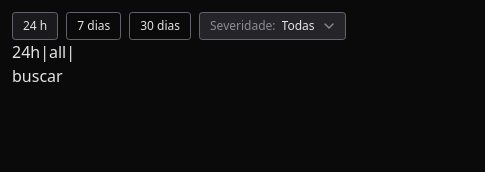
Test: FilterBar › "Limpar filtros" só aparece com filtro ativo
The width and height of the screenshot is (485, 172).
Expected: the button "Limpar filtros" is not shown
Click the radio button with aria-label "Últimos 30 dias" at (160, 26), box [129,12,191,40]
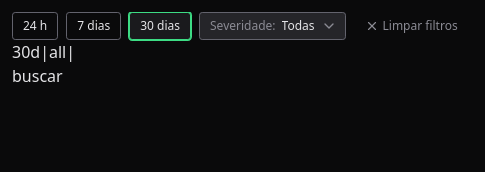
Now the button "Limpar filtros" is shown, box [354,12,469,40]
